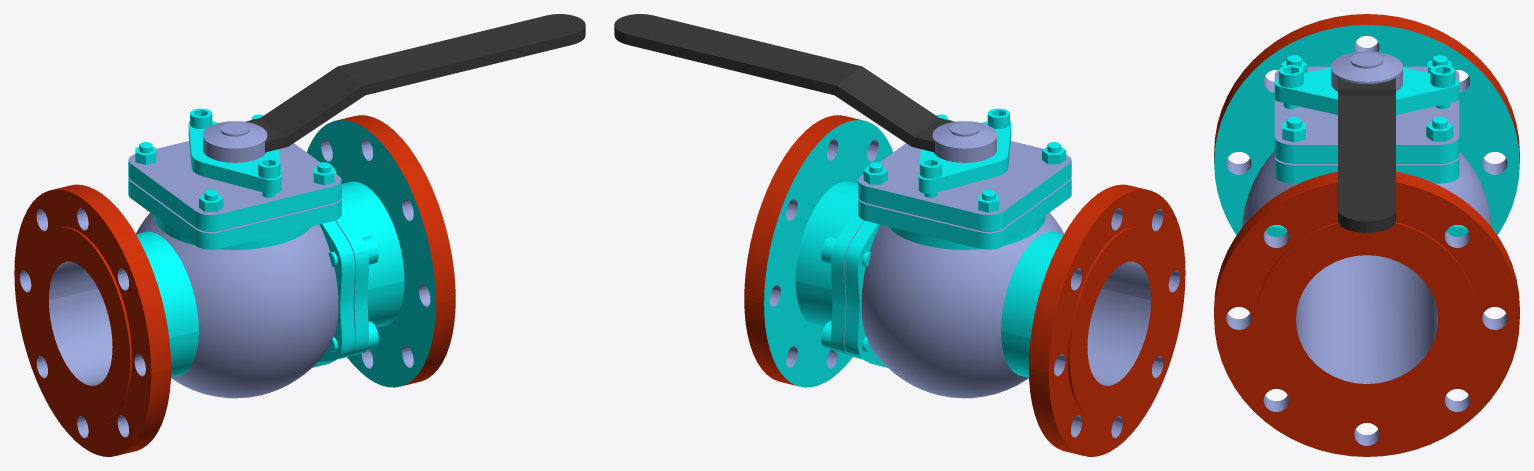
The picture shows the model from 3 angles, left to right: view 1: azimuth 30°, elevation 25°; view 2: azimuth 150°, elevation 25°; view 3: azimuth 270°, elevation 25°; orthographic projection. The views are drawn at different scales.
Visible parts, largest first — view 1: ·¨<l½ԇ00; view 2: ·¨<l½ԇ00; view 3: ·¨<l½ԇ00.
Boxes of the visible parts, box(x1,y1,x2,y2) form: ·¨<l½ԇ00: box(14, 14, 585, 456); ·¨<l½ԇ00: box(614, 14, 1185, 456); ·¨<l½ԇ00: box(1214, 14, 1519, 456).
Bounding box in the file's own units: 455 × 265 × 215.
